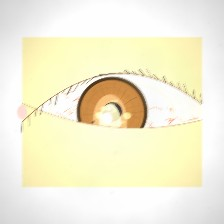corneal_ulcer: (82, 99, 137, 143)
